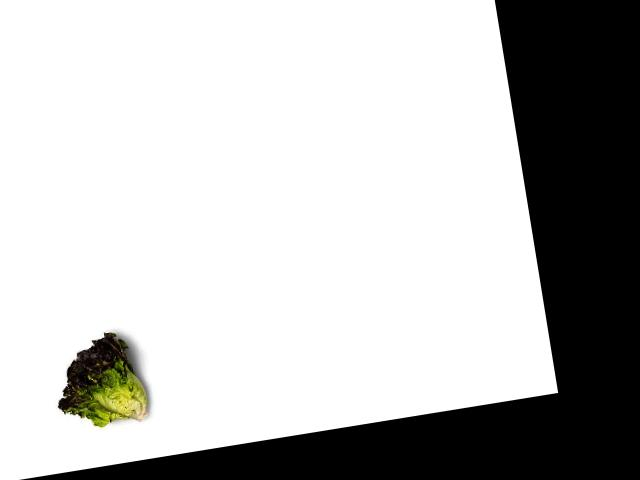lettuce: (48, 322, 151, 436)
